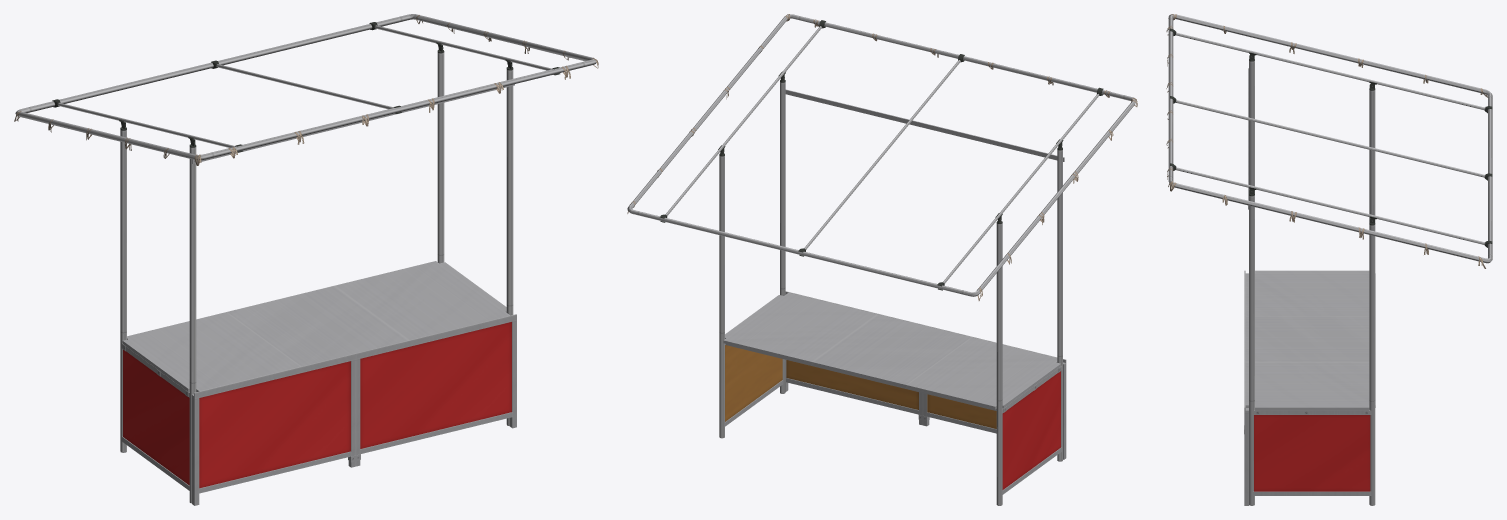
Rendered from jsf_4P_s02_c06_t01.fbx.
3 renders of one model, left to right at view 1: azimuth 30°, elevation 25°; view 2: azimuth 150°, elevation 25°; view 3: azimuth 270°, elevation 25°, orthographic. The views are drawn at different scales.
Parts seen in each view (by area): view 1: Base_s02_c06, Table_4P_s02_t01, Pillar4_s02, Rope_4P_s02; view 2: Table_4P_s02_t01, Pillar4_s02, Base_s02_c06, Rope_4P_s02; view 3: Table_4P_s02_t01, Pillar4_s02, Base_s02_c06, Rope_4P_s02.
Boxes of the visible parts, x1,y1,x2,y2 form: Base_s02_c06: [121, 314, 516, 505]; Table_4P_s02_t01: [122, 261, 509, 396]; Pillar4_s02: [15, 14, 596, 503]; Rope_4P_s02: [14, 15, 598, 165]; Table_4P_s02_t01: [723, 292, 1061, 412]; Pillar4_s02: [627, 14, 1136, 505]; Base_s02_c06: [725, 291, 1066, 494]; Rope_4P_s02: [627, 14, 1137, 300]; Table_4P_s02_t01: [1245, 270, 1375, 414]; Pillar4_s02: [1168, 14, 1492, 505]; Base_s02_c06: [1244, 270, 1371, 505]; Rope_4P_s02: [1166, 14, 1487, 268].
Size of the model in its own units: 264 by 243 by 211.
